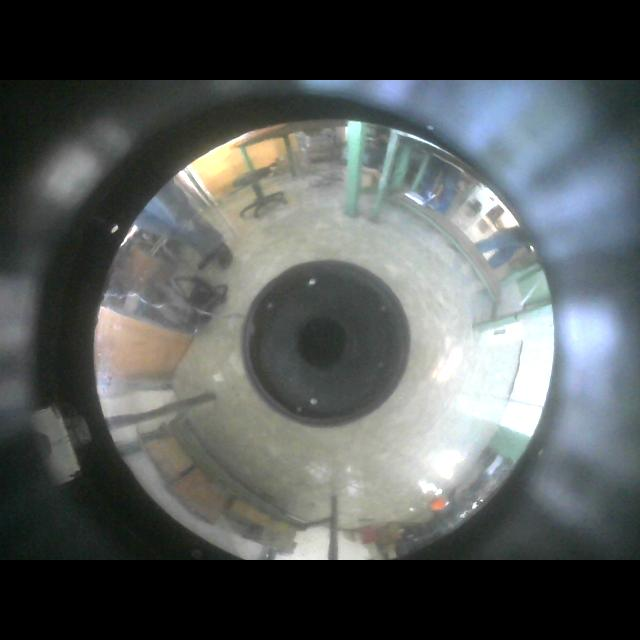bola: (432, 497, 446, 510)
